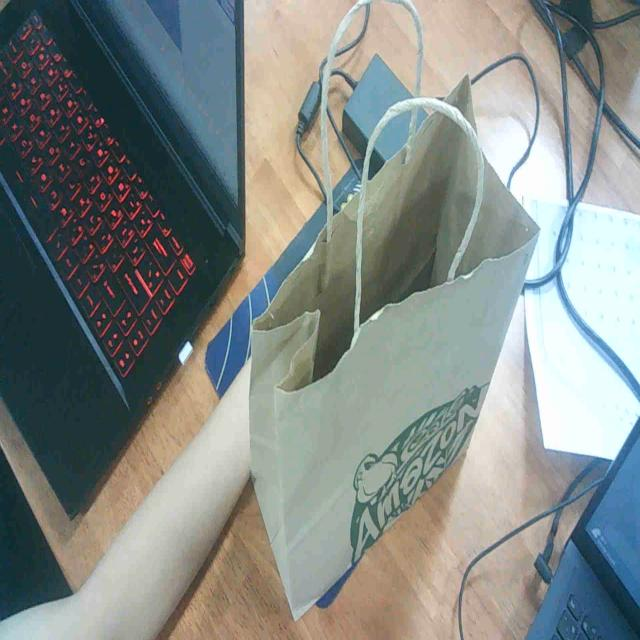bag: (241, 60, 554, 640)
